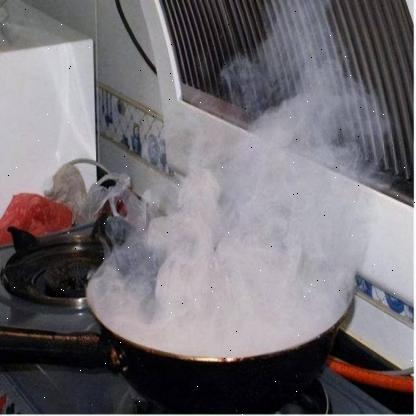smoke: (89, 0, 395, 359)
